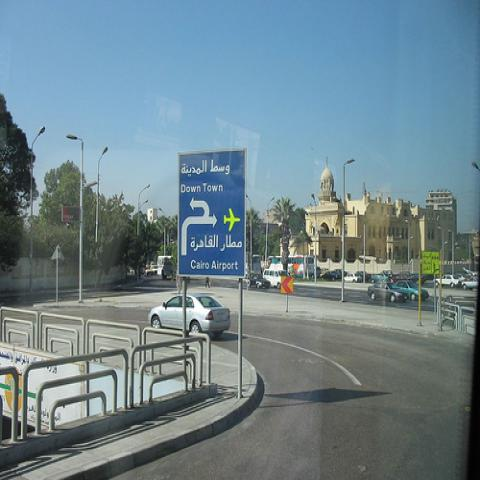bus: (268, 254, 314, 278)
car: (148, 292, 230, 338), (368, 282, 408, 302), (396, 281, 431, 300), (246, 272, 270, 290), (432, 275, 461, 288), (370, 270, 393, 283), (461, 276, 479, 290), (320, 270, 339, 282), (344, 272, 362, 282)
truck: (262, 270, 286, 288)
